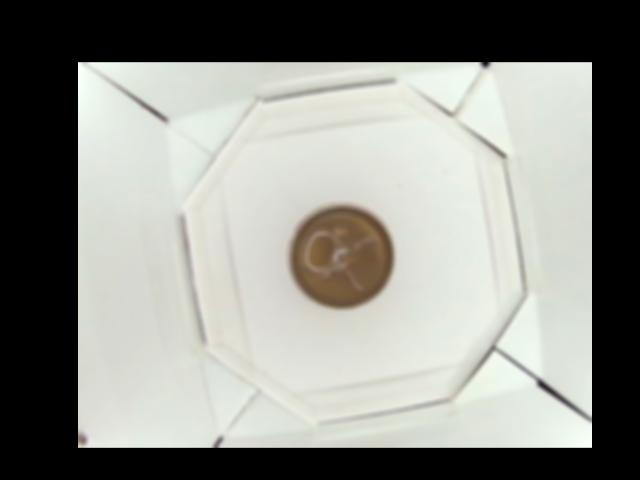Bottle: (284, 202, 396, 312)
